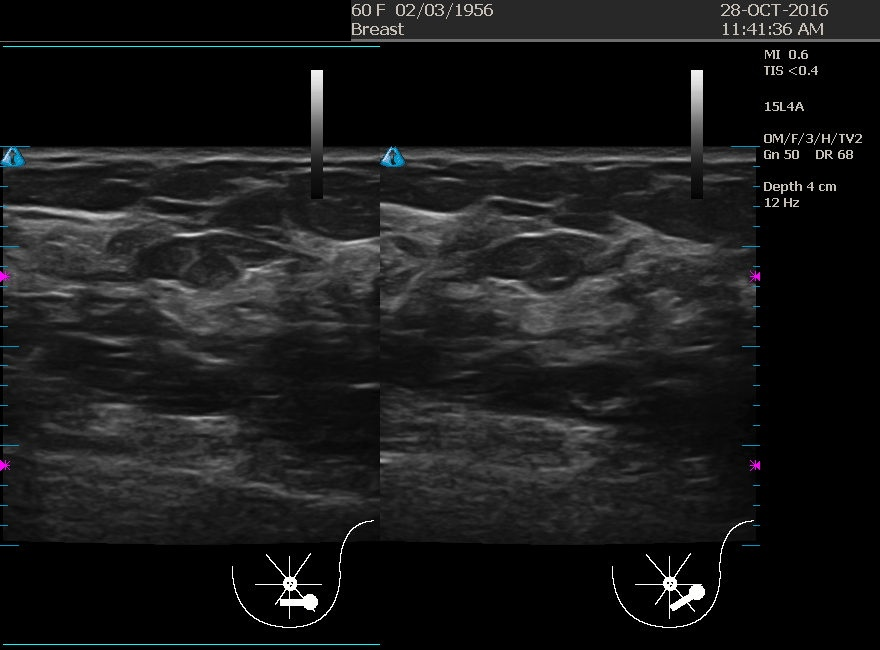BIRADS_3: (104, 155, 305, 355), (451, 151, 651, 351)
